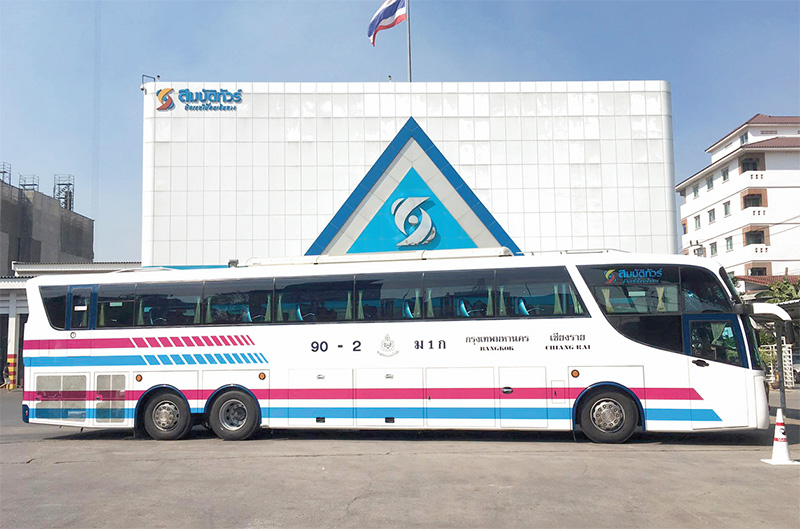bus: (20, 247, 771, 442)
